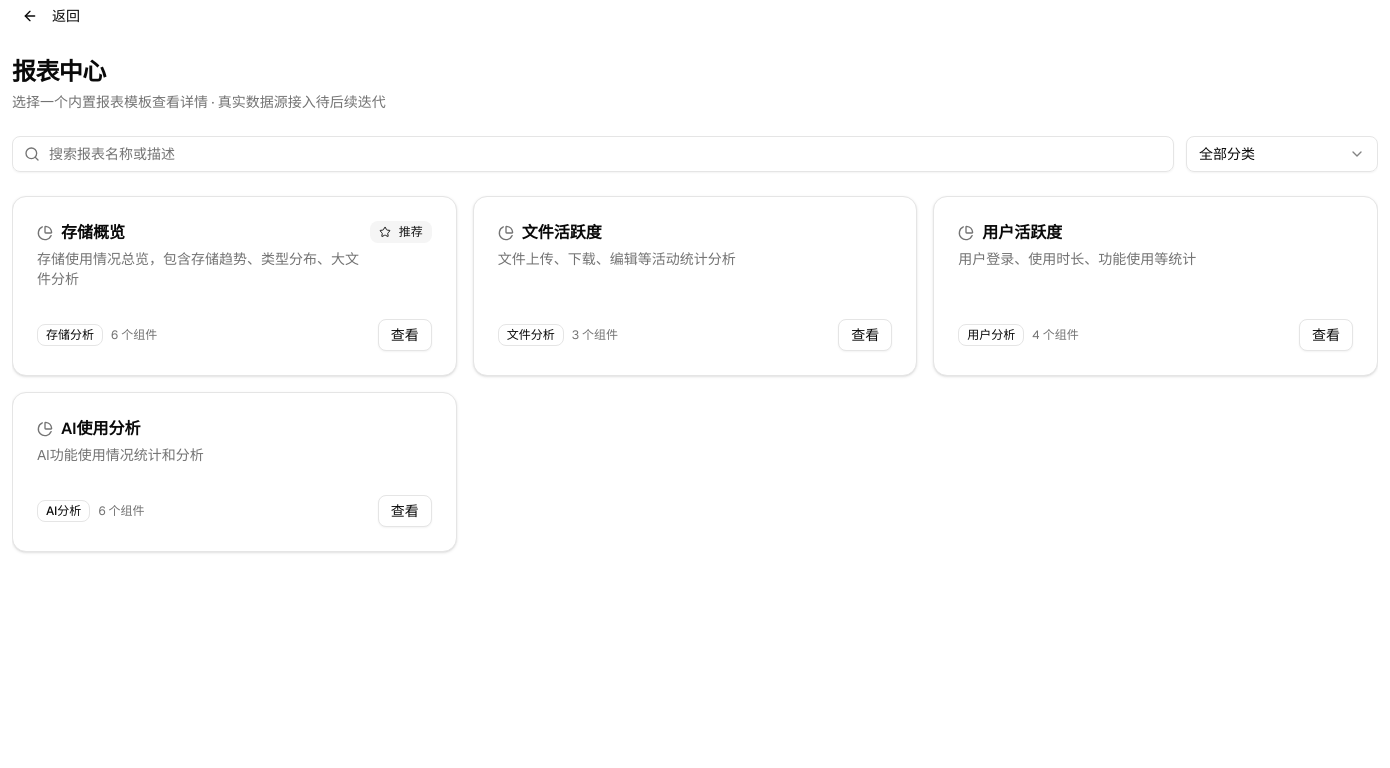
报表列表页 /reports › 清空搜索框恢复全部模板
Type "存储" into the field with test id "reports-search-input". click: (593,154)
box: x1=12 y1=136 x2=1174 y2=172
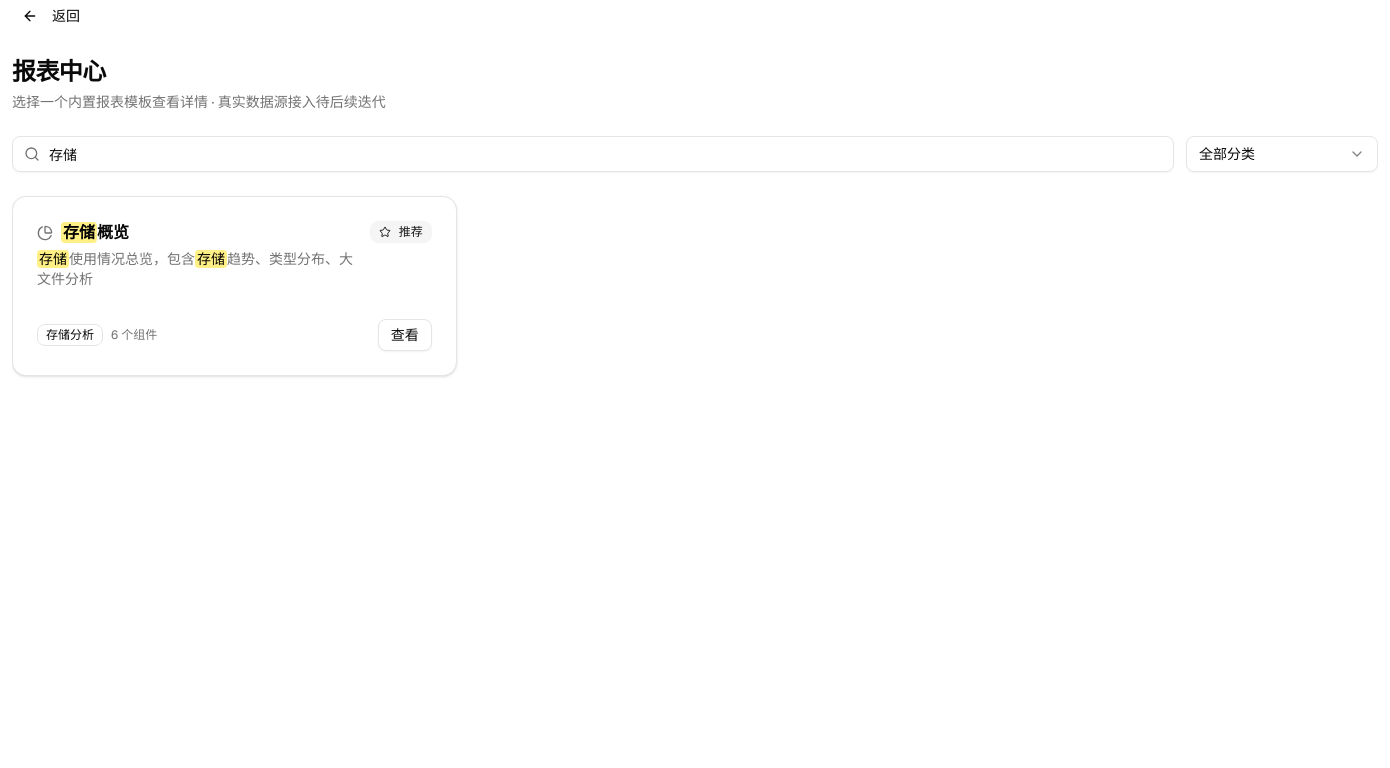
Result: the number of elements with test id "report-template-card" is 1 at x1=12 y1=196 x2=457 y2=376
Clear the field with test id "reports-search-input". click: (593,154)
box: x1=12 y1=136 x2=1174 y2=172
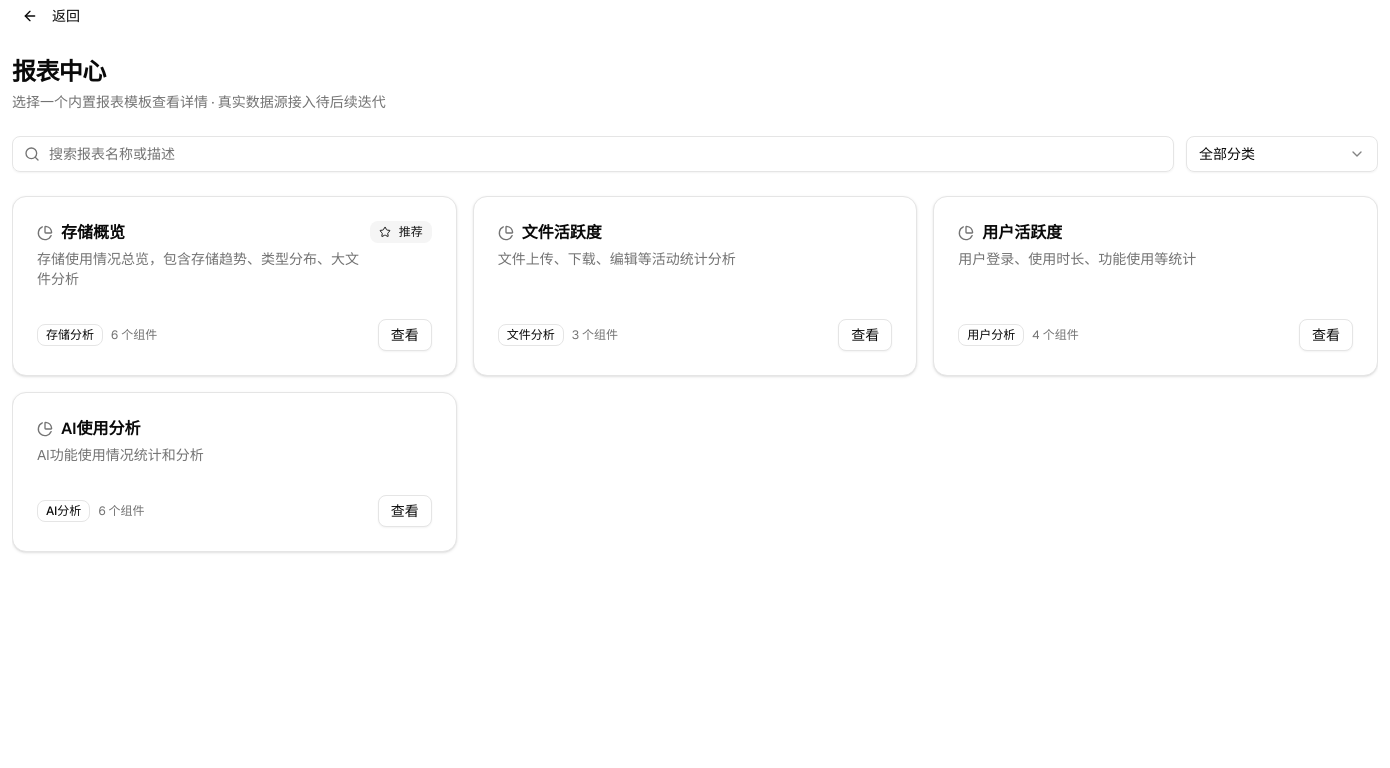
Result: the number of elements with test id "report-template-card" is 4 at x1=12 y1=196 x2=457 y2=376; x1=473 y1=196 x2=917 y2=376; x1=933 y1=196 x2=1378 y2=376; x1=12 y1=392 x2=457 y2=552
